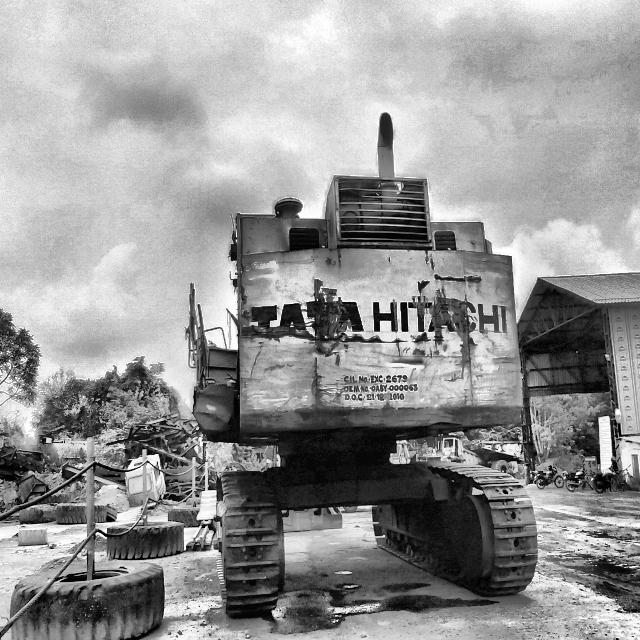excavator: (191, 111, 541, 623)
